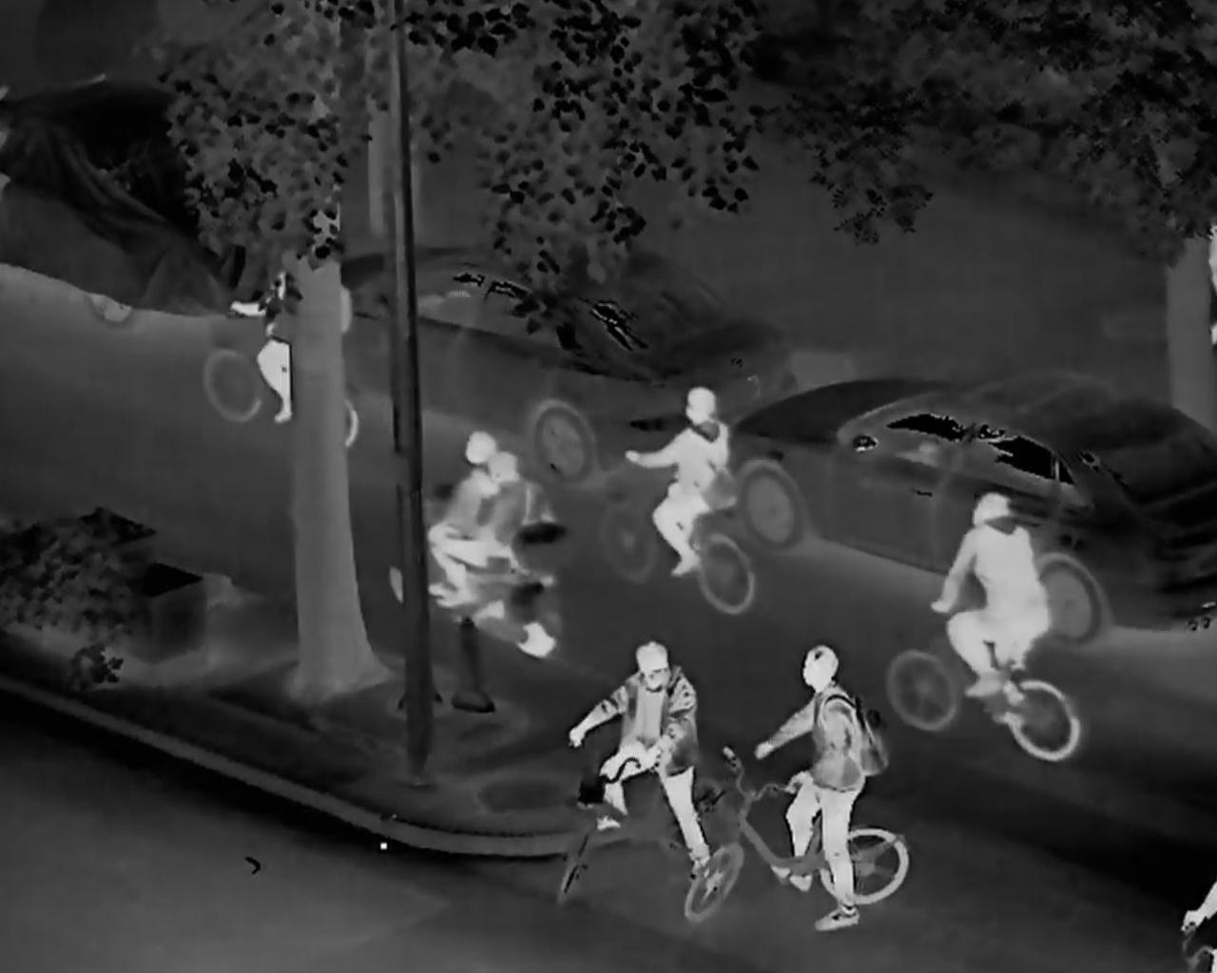person: (727, 620, 887, 940), (550, 636, 718, 904), (225, 234, 382, 465), (935, 486, 1053, 725), (620, 381, 736, 599), (440, 446, 554, 615), (422, 428, 508, 606)
